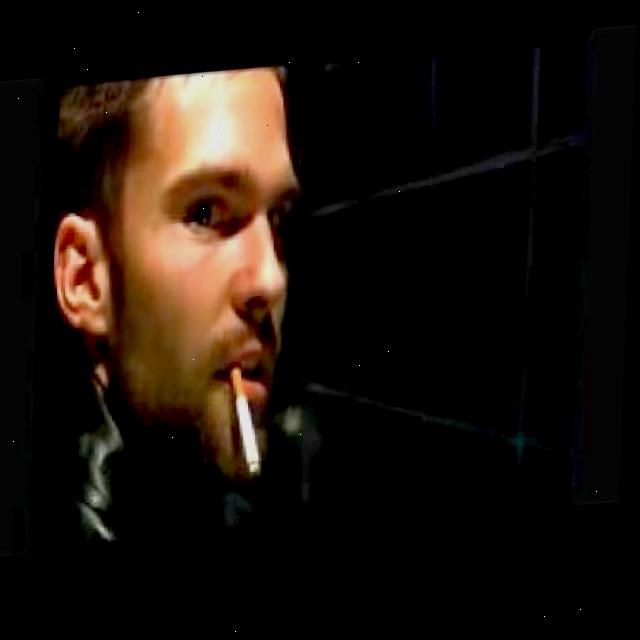cigarette: (227, 366, 271, 484)
